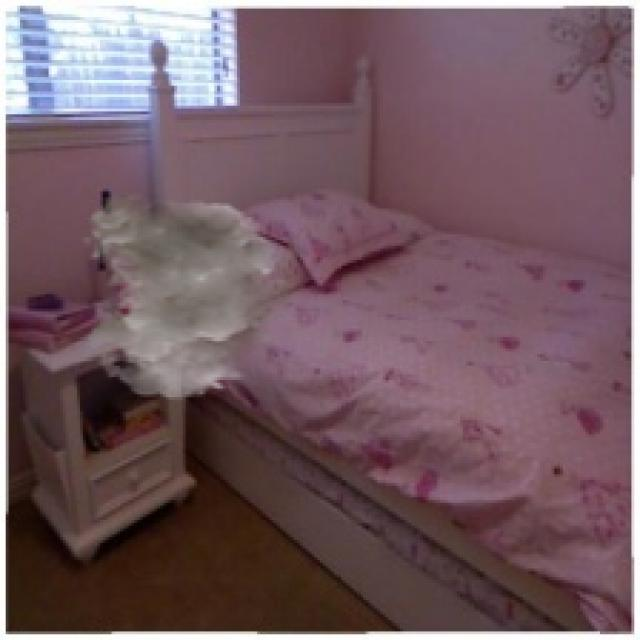smoke: (80, 191, 303, 400)
